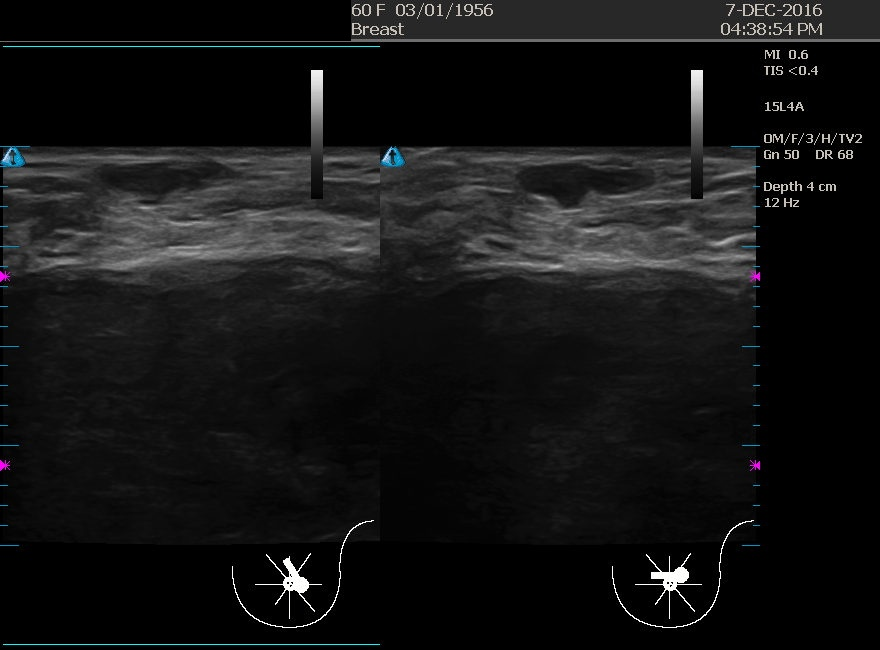Benign: (63, 147, 263, 347), (478, 149, 678, 349)
